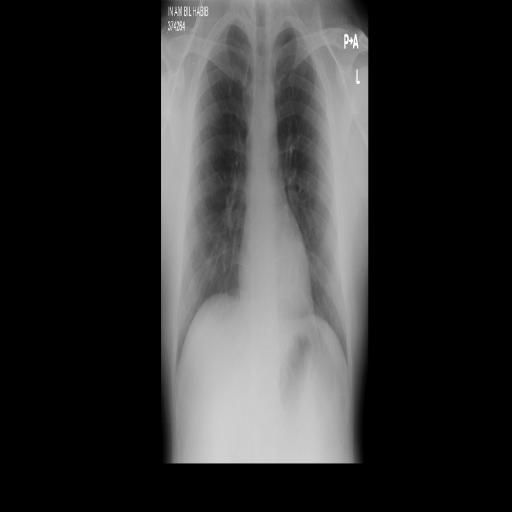normal: (170, 21, 353, 382)
